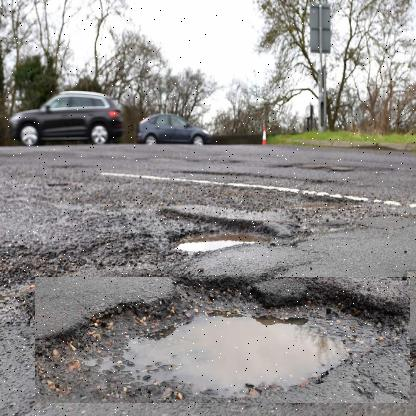pothole: (146, 203, 292, 268)
pothole_water: (36, 277, 412, 404)
